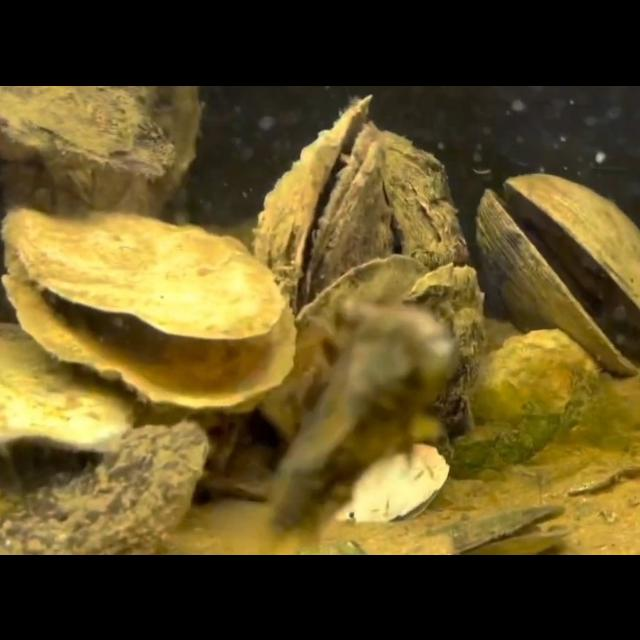Oyster-Closed: (1, 419, 210, 555), (439, 326, 597, 476), (1, 323, 138, 455), (0, 85, 178, 179), (377, 129, 467, 269)
Oyster-Open: (2, 205, 298, 408), (294, 254, 486, 434), (474, 170, 640, 372), (250, 91, 388, 301), (334, 441, 450, 524), (450, 503, 572, 555)
